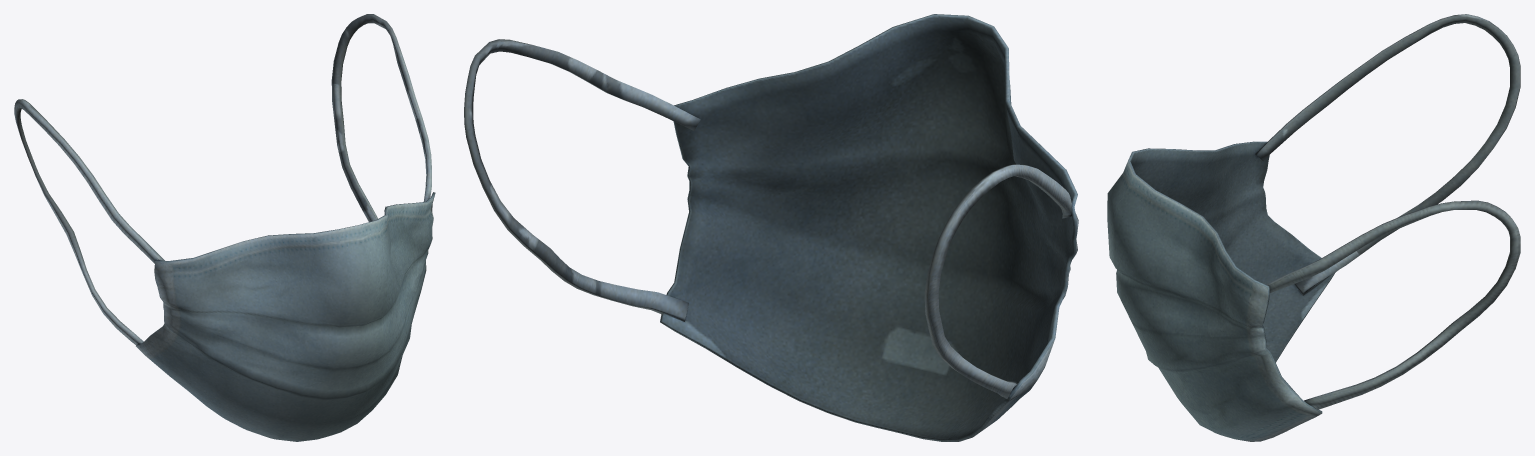
Rendered from Ch16_Mask.fbx.
The picture shows the model from 3 angles, left to right: view 1: azimuth 30°, elevation 25°; view 2: azimuth 150°, elevation 25°; view 3: azimuth 270°, elevation 25°; orthographic projection. The views are drawn at different scales.
Parts seen in each view (by area): view 1: Mask; view 2: Mask; view 3: Mask.
Boxes of the visible parts, <box> form: Mask: <box>14,14,435,441</box>; Mask: <box>464,14,1078,441</box>; Mask: <box>1107,14,1520,441</box>.
Bounding box in the file's own units: 0.164 × 0.1306 × 0.1515.
